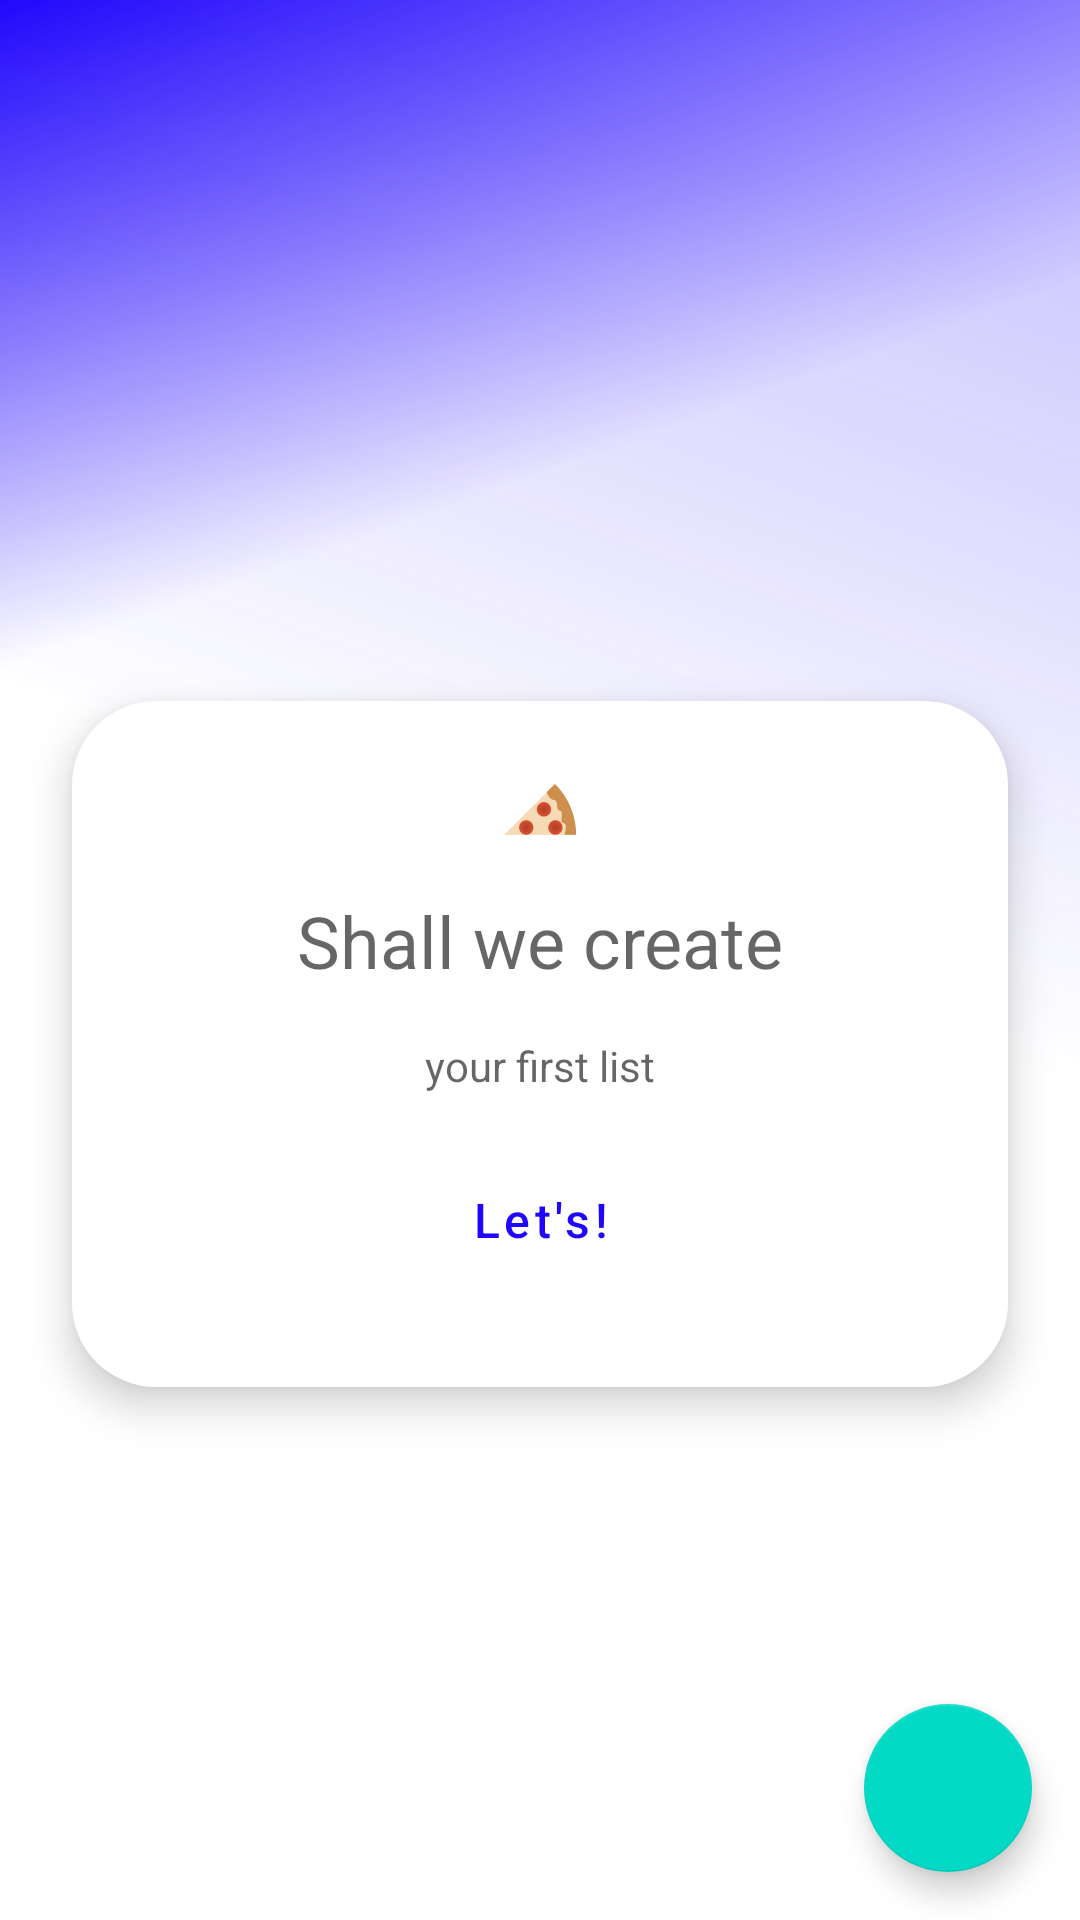

Icon click points for this 1080x1920 phone screenshot, format [x,y]:
pizza: [540,809]
